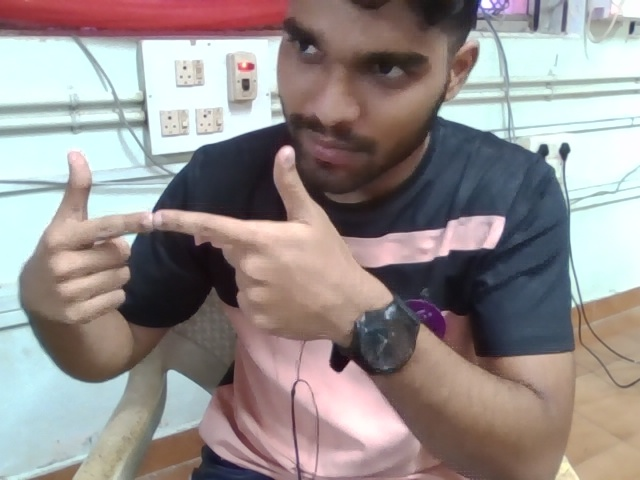hurt: (21, 130, 366, 385)
